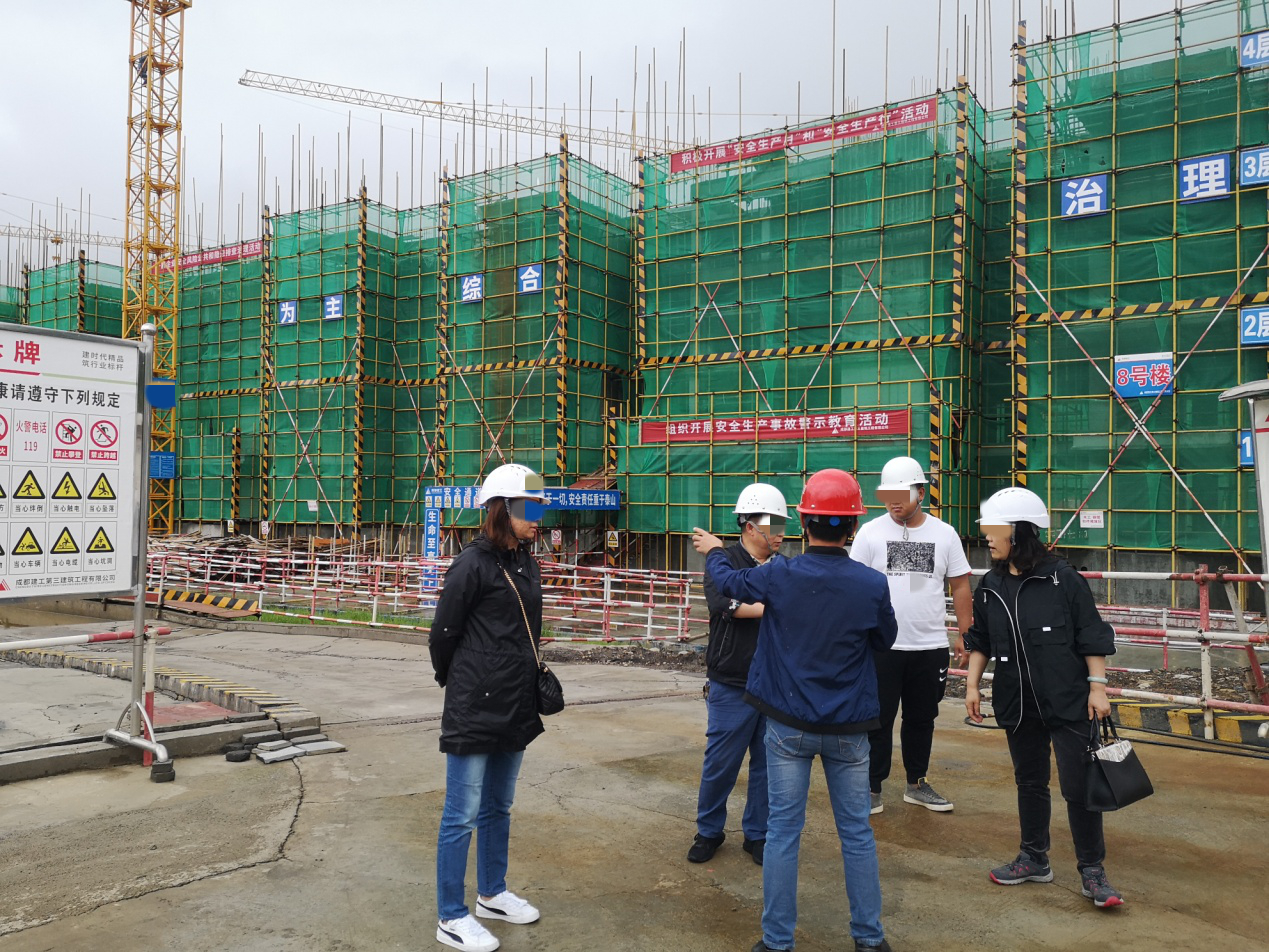helmet: (795, 468, 867, 515), (479, 464, 549, 505), (979, 487, 1048, 527), (732, 483, 791, 519), (878, 456, 928, 490)
person: (689, 460, 895, 952), (964, 483, 1134, 914), (428, 459, 571, 952), (849, 456, 977, 817), (690, 482, 794, 870)
